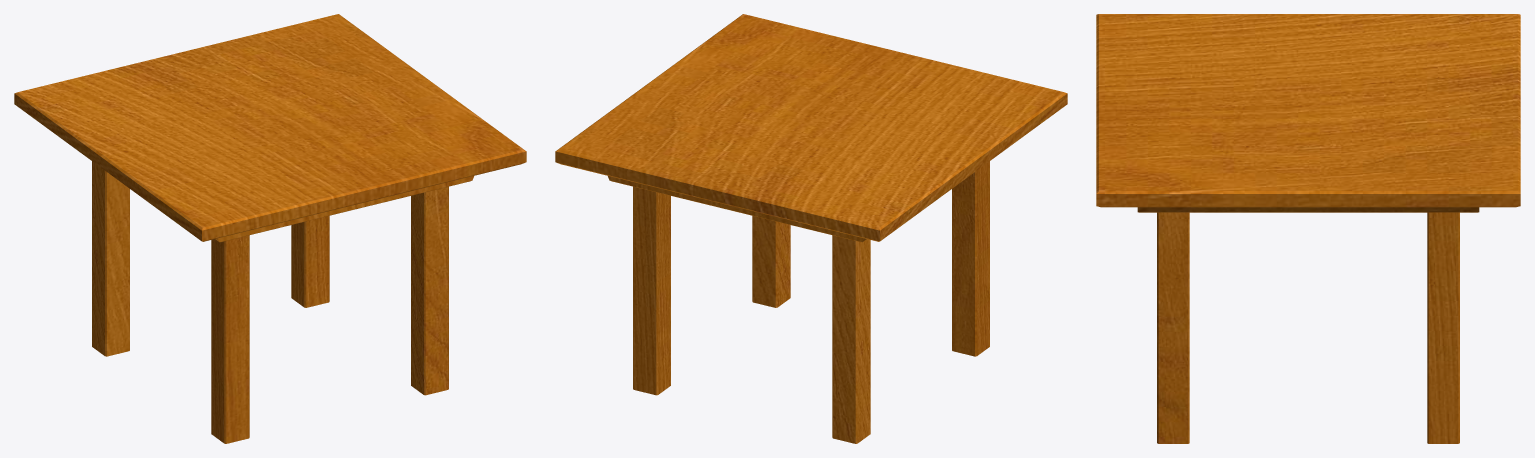
File: tabel01.fbx
3 renders of one model, left to right at view 1: azimuth 30°, elevation 25°; view 2: azimuth 150°, elevation 25°; view 3: azimuth 270°, elevation 25°, orthographic. The views are drawn at different scales.
Visible parts, largest first — view 1: table_01; view 2: table_01; view 3: table_01.
Part boxes in pixels (x1,y1,x2,y2): table_01: (14, 14, 526, 443); table_01: (555, 14, 1067, 443); table_01: (1096, 14, 1520, 443).
Size of the model in its own units: 0.5281 by 0.384 by 0.5281.
1 material, 1 textured.
